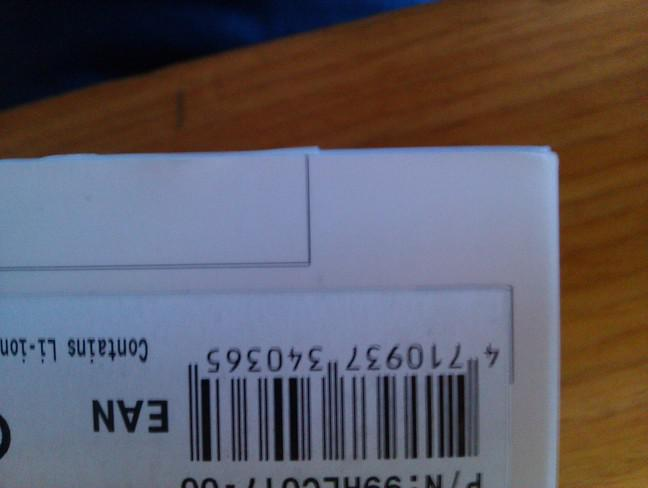Barkod: (166, 327, 514, 468)
